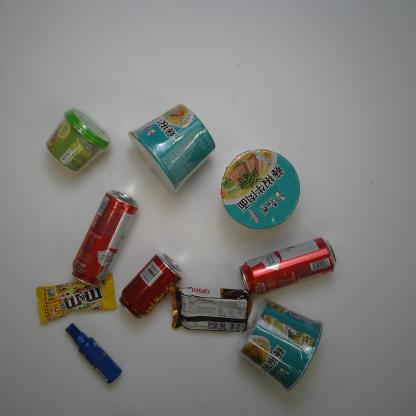Alcohol: (70, 189, 140, 287), (238, 237, 338, 296)
Chocolate: (36, 272, 118, 324)
Dessert: (168, 286, 254, 332)
Drink: (118, 252, 184, 320)
Instant Drink: (46, 106, 112, 172)
Instant Noodles: (127, 103, 217, 195), (237, 298, 324, 393), (220, 150, 302, 230)
Personal Hygiene: (65, 322, 123, 385)
